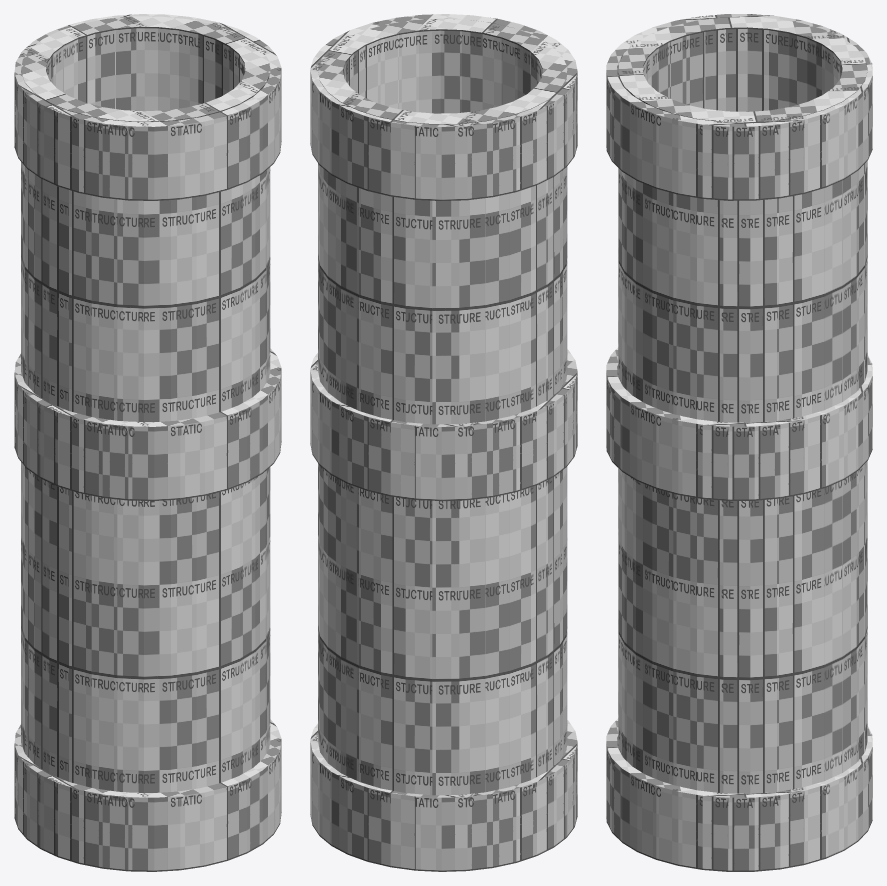
Rendered from Pipe(Main Hub).fbx.
The picture shows the model from 3 angles, left to right: view 1: azimuth 30°, elevation 25°; view 2: azimuth 150°, elevation 25°; view 3: azimuth 270°, elevation 25°; orthographic projection.
Parts seen in each view (by area): view 1: Pipe_Main_Hub_, Pipe_Ring_Hub___2_, Pipe_Ring_Hub___1_, Pipe_Ring_Hub_; view 2: Pipe_Main_Hub_, Pipe_Ring_Hub___2_, Pipe_Ring_Hub_, Pipe_Ring_Hub___1_; view 3: Pipe_Main_Hub_, Pipe_Ring_Hub___2_, Pipe_Ring_Hub_, Pipe_Ring_Hub___1_.
Part boxes in pixels (<box>): Pipe_Main_Hub_: <box>21,16,270,792</box>; Pipe_Ring_Hub___2_: <box>14,14,281,200</box>; Pipe_Ring_Hub___1_: <box>14,348,281,500</box>; Pipe_Ring_Hub_: <box>14,719,281,871</box>; Pipe_Main_Hub_: <box>318,18,567,795</box>; Pipe_Ring_Hub___2_: <box>310,14,577,200</box>; Pipe_Ring_Hub_: <box>310,720,577,871</box>; Pipe_Ring_Hub___1_: <box>310,349,577,500</box>; Pipe_Main_Hub_: <box>618,17,867,793</box>; Pipe_Ring_Hub___2_: <box>606,14,872,200</box>; Pipe_Ring_Hub_: <box>606,718,872,871</box>; Pipe_Ring_Hub___1_: <box>606,347,872,500</box>.
Bounding box in the file's own units: 190 × 587 × 190.
